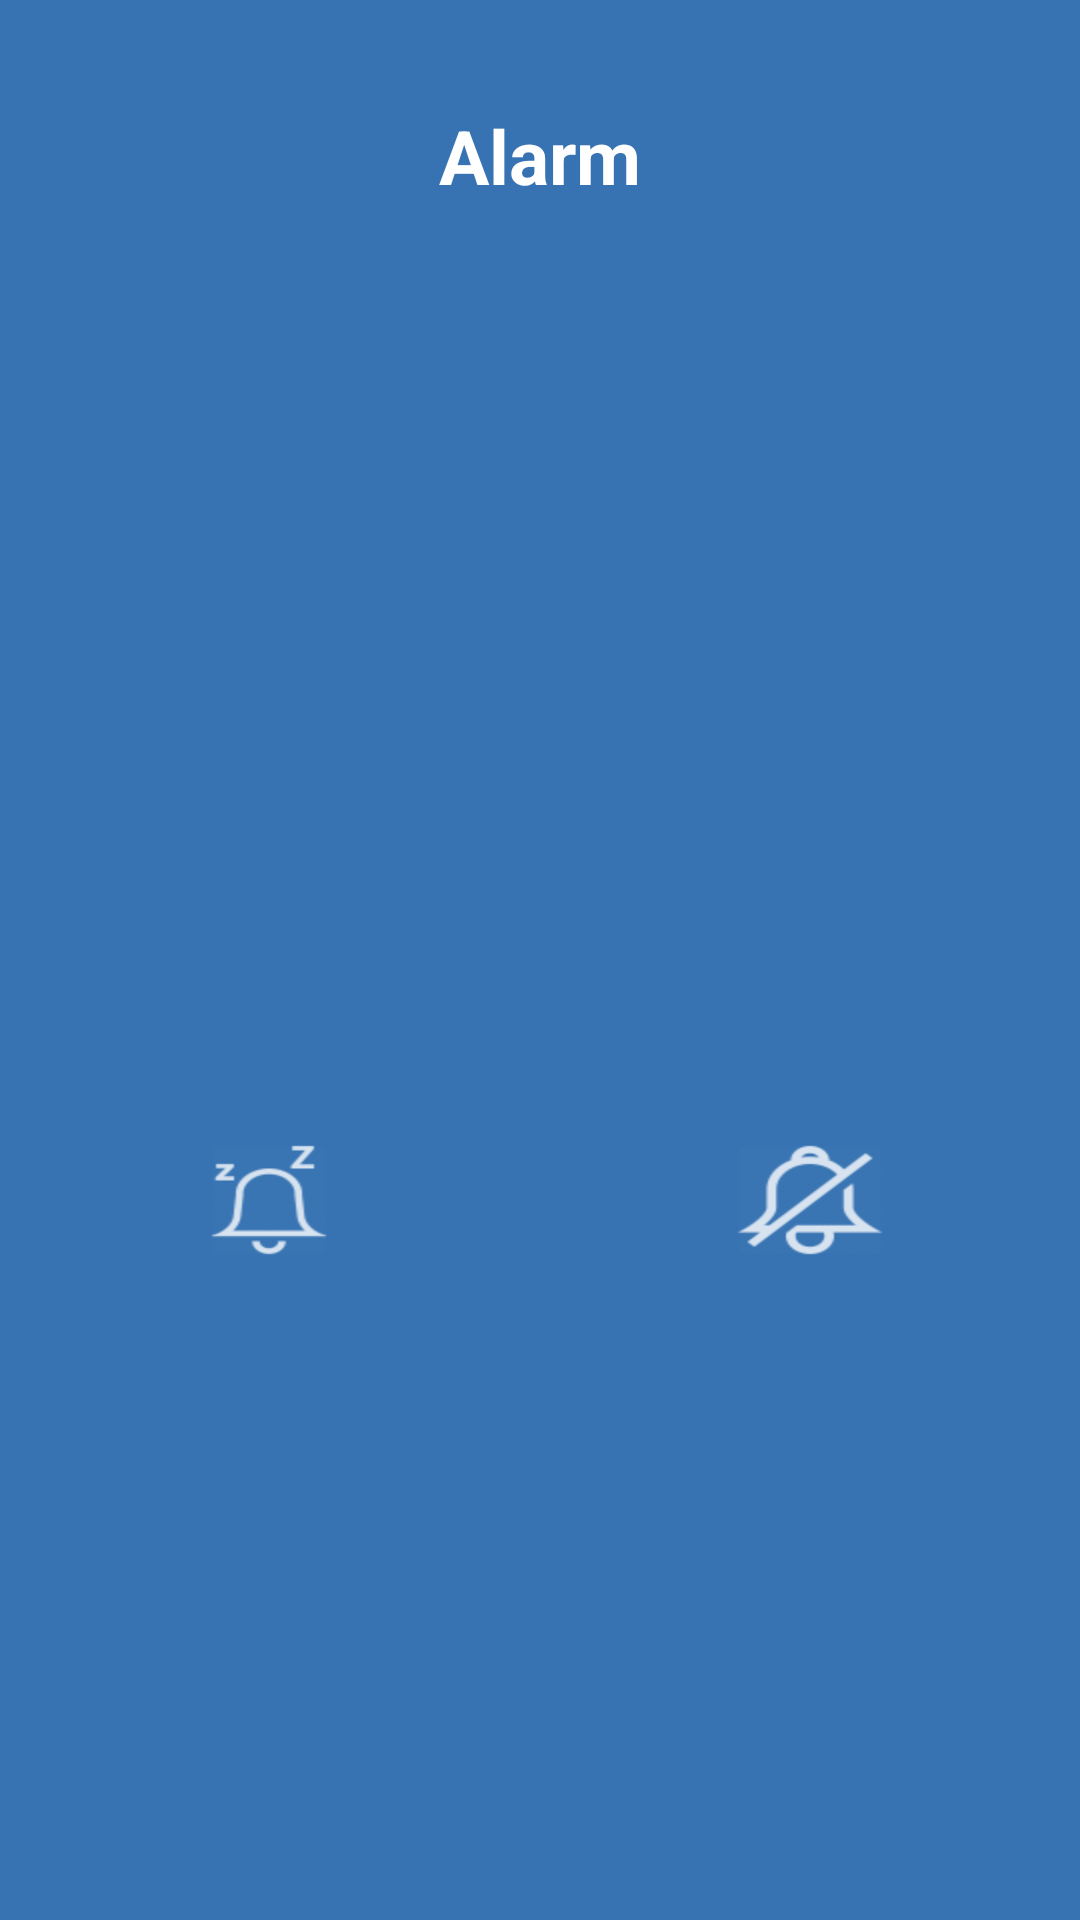

Icon click points for this 1080px×1920px phone screenshot, format (x=x, y=y):
alarm off: (x=810, y=1200)
snooze: (x=269, y=1199)
